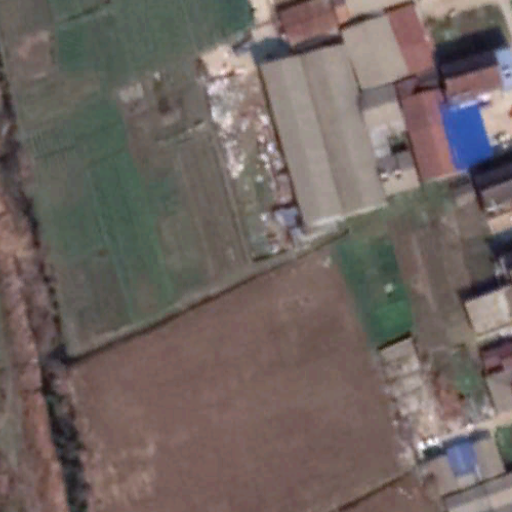msw: (206, 68, 278, 176)
